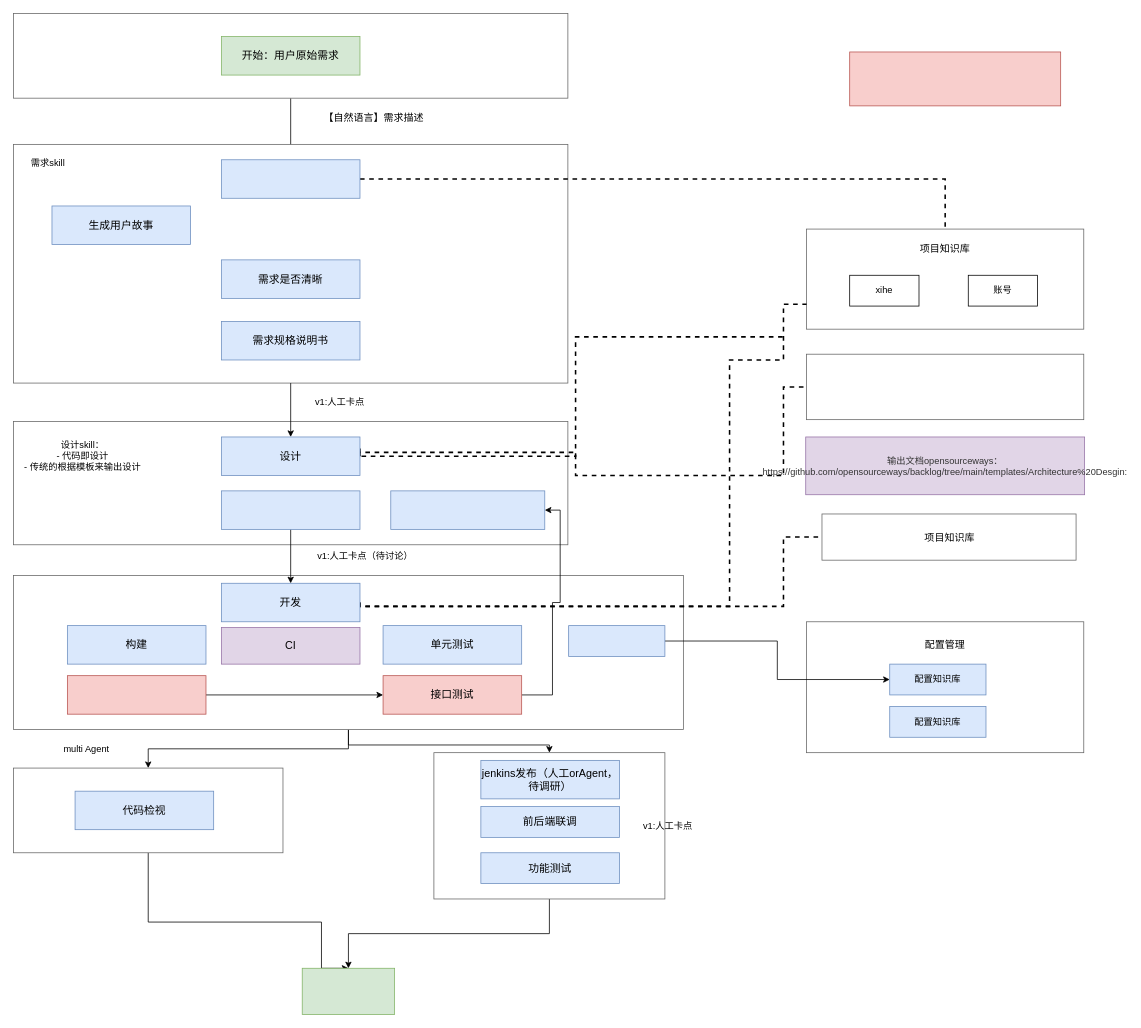
The diagram is 1141 pixels wide and 1028 high, and some of its shapes have lost their labels. The shapes that lost their labels are listed below. From the top down, each one's centre as x and y in pixels, then its label:
At pixel 955 78: "安全边界： 仅运维有权限的改动，Agent不需要cover,如配置的secret".
At pixel 290 178: "自然语言理解".
At pixel 945 386: "设计规范、要求 接口设计".
At pixel 290 509: "设计文档（AI能理解的）".
At pixel 467 509: "接口测试用例目标生成".
At pixel 616 640: "修改配置".
At pixel 136 694: "部署/nocalhost".
At pixel 348 991: "检查开发结果和需求规格是否一致".
